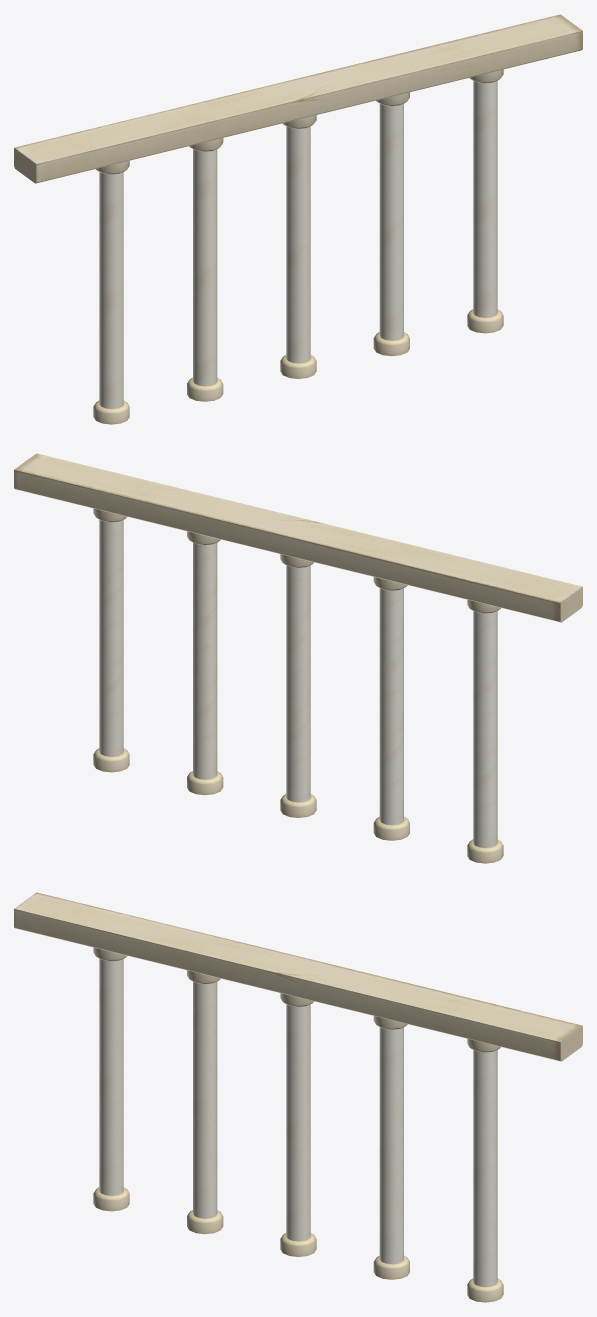
File: Long_fence.fbx
3 views of the same model, one above another, from view 1: azimuth 30°, elevation 25°; view 2: azimuth 150°, elevation 25°; view 3: azimuth 330°, elevation 25° (orthographic).
Visible parts, largest first — view 1: Long_fence; view 2: Long_fence; view 3: Long_fence.
Boxes of the visible parts, left/top/right/bottom form: Long_fence: left=14, top=14, right=582, bottom=424; Long_fence: left=14, top=453, right=582, bottom=863; Long_fence: left=14, top=892, right=582, bottom=1302.
Size of the model in its own units: 6.34 by 3.13 by 0.4518.
